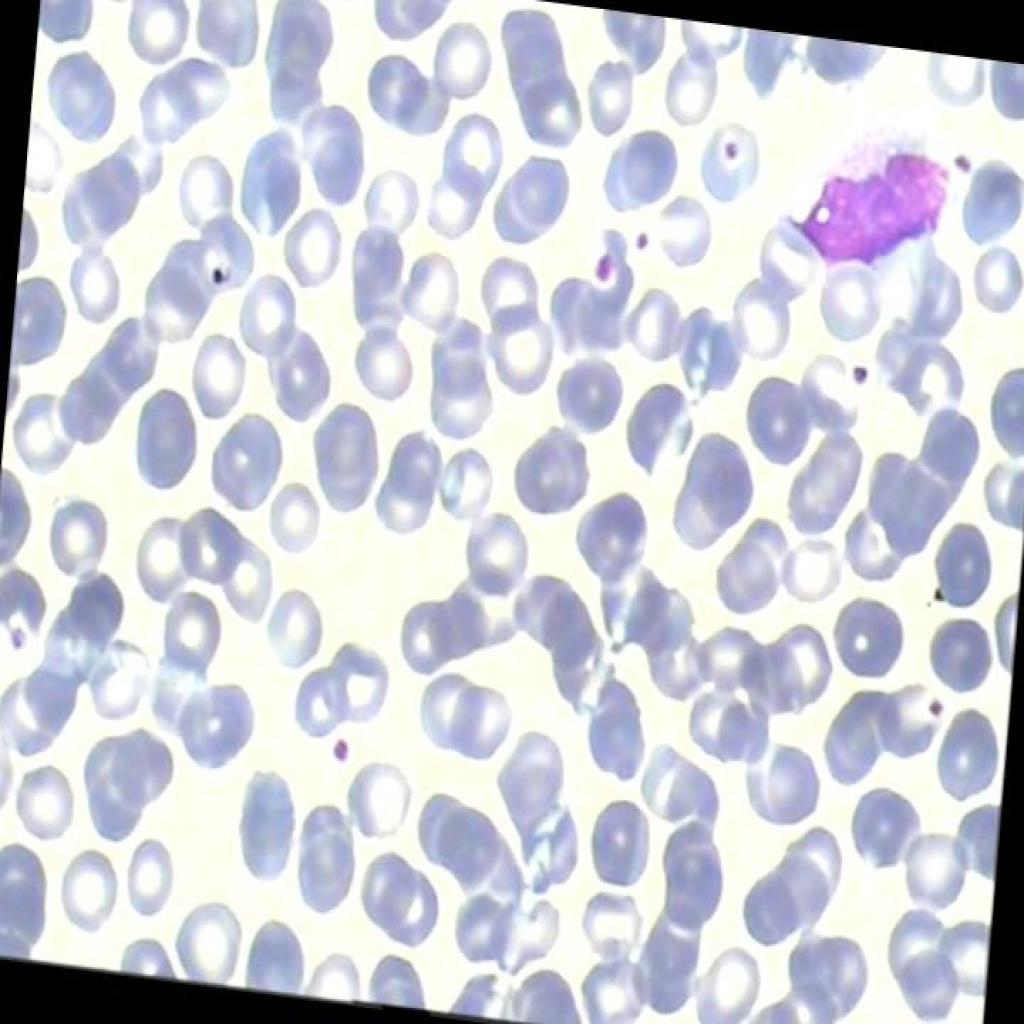Monosit: (785, 96, 961, 324)
Platelet: (323, 720, 363, 777), (624, 220, 663, 262), (582, 245, 617, 281), (919, 690, 946, 730), (850, 352, 874, 389), (715, 133, 747, 160), (953, 137, 973, 172)
